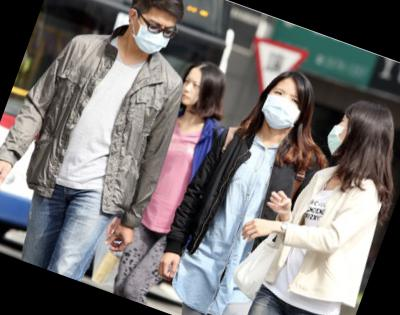with_mask: (125, 8, 178, 60), (256, 83, 308, 136), (321, 110, 355, 158)
without_mask: (175, 72, 206, 109)
